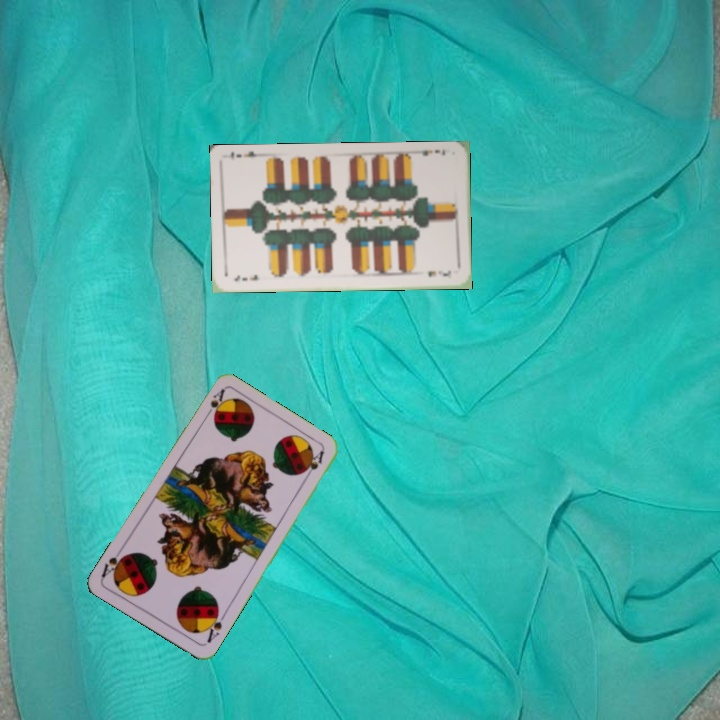E7: (413, 145, 447, 158), (230, 271, 260, 284)
SA: (200, 606, 229, 645), (200, 386, 227, 423)
